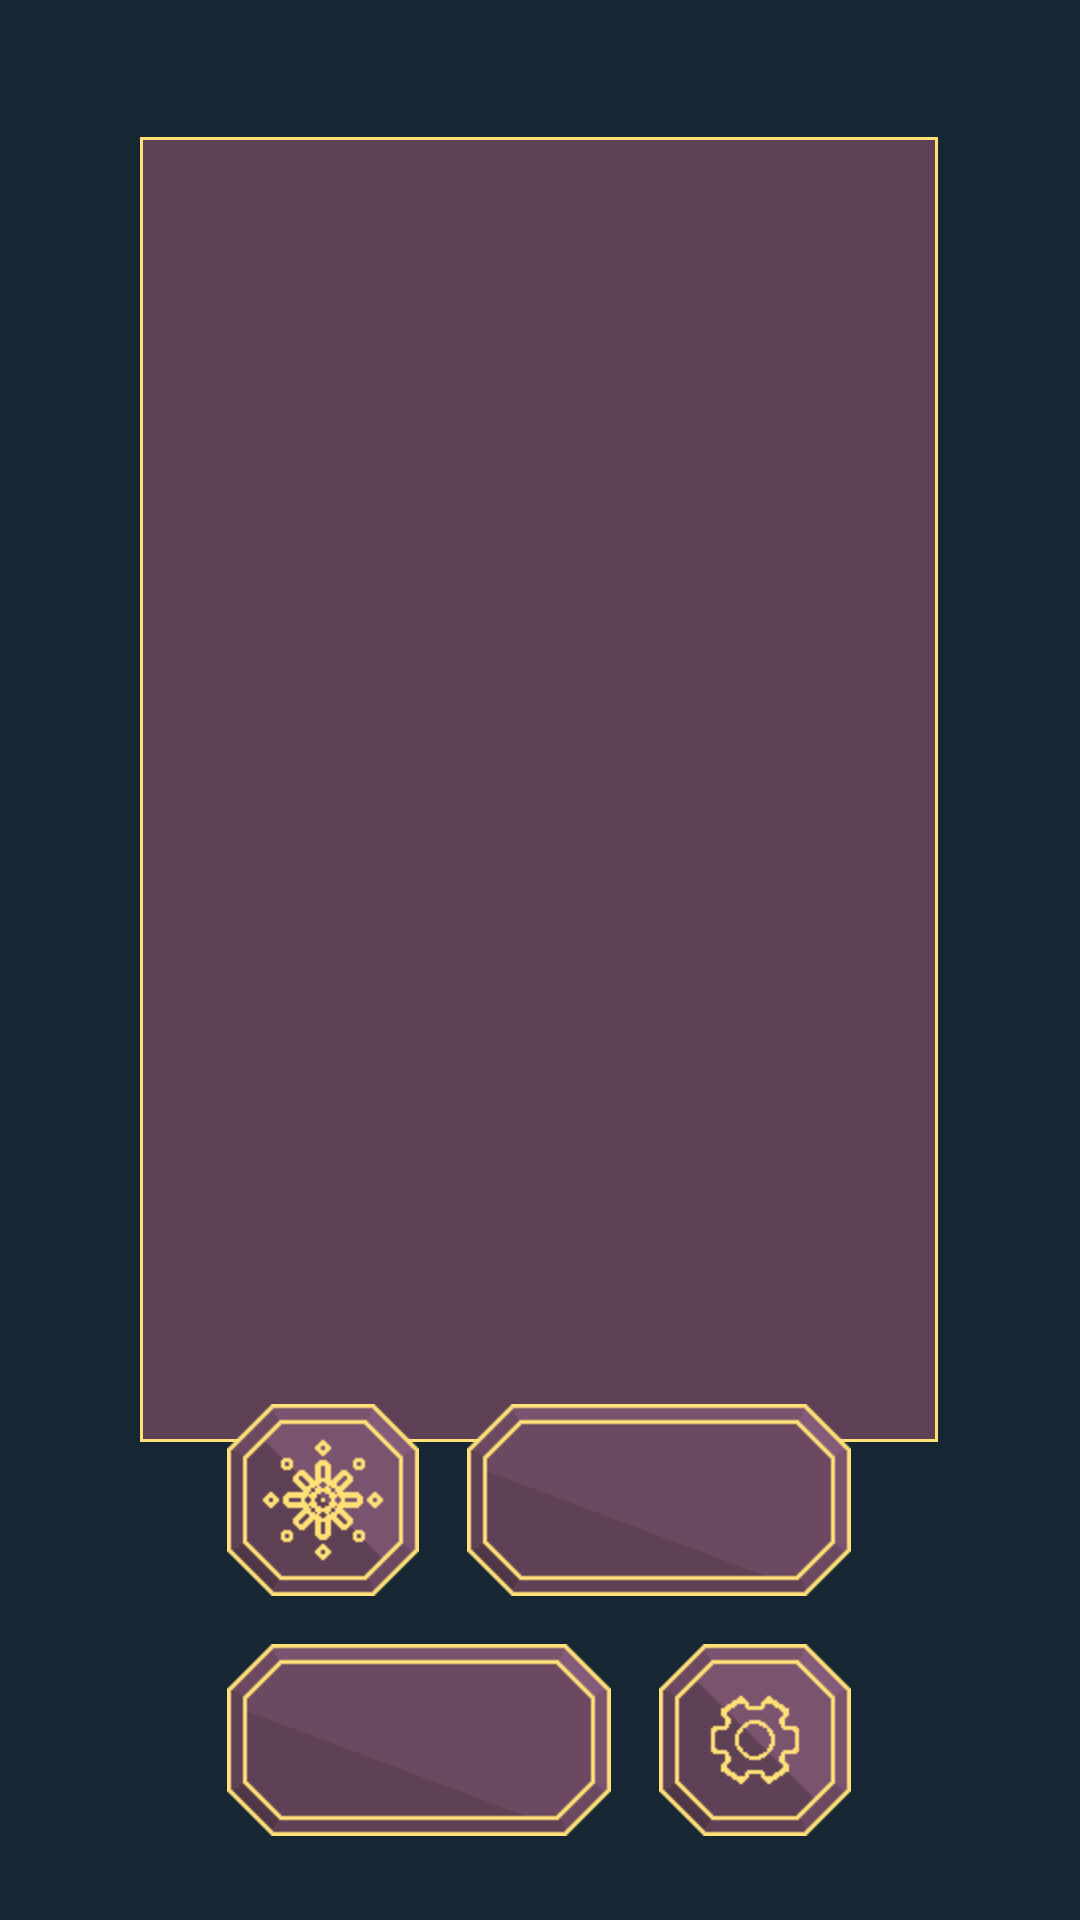

Where to tap for icons on this 1080x1920 app screen, as (x,y):
settings: (755,1740)
